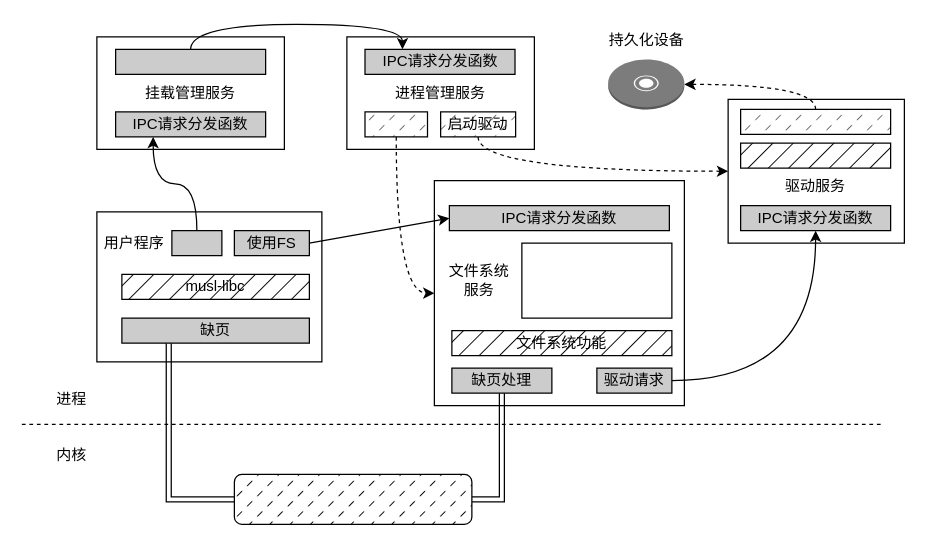
Some shapes in this 926 by 546 pixel diagram are drawn without their labels. The shapes that lost their labels are listed below. From the top down, each one's centre as x and y in pixels, then its label:
At (190,61): "持有FS“能力”".
At (396,124): "启动FS".
At (815,121): "读/写设备".
At (815,155): "缓存模块".
At (196,242): "挂载".
At (596,280): "虚拟文件系统".
At (352,498): "用户态缺页处理扩展".
